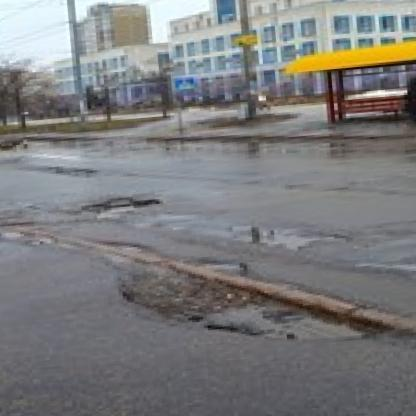pothole: (115, 237, 384, 364), (80, 194, 160, 224)
